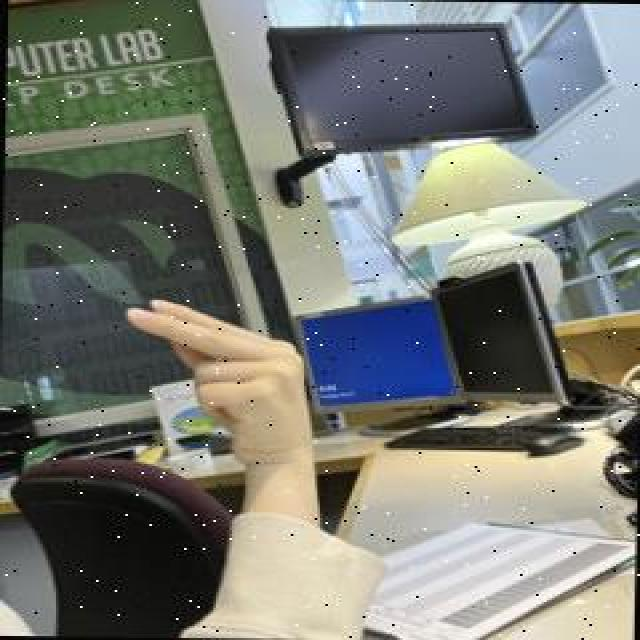H: (107, 293, 320, 463)
